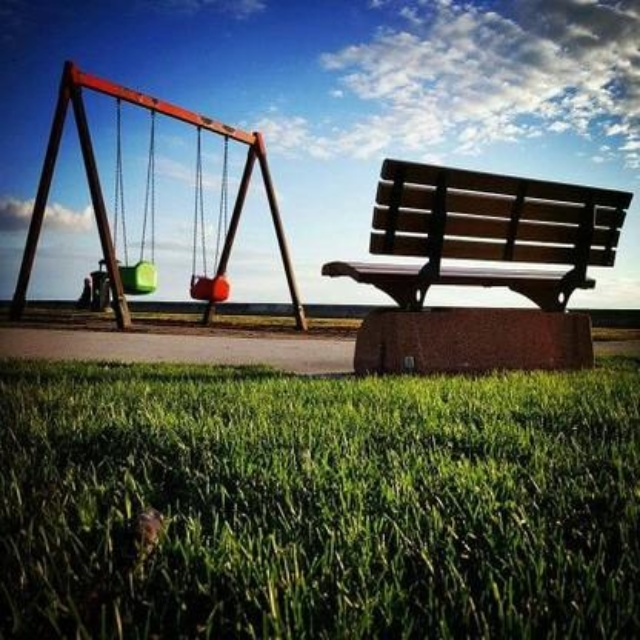obstacle: (323, 149, 618, 320)
